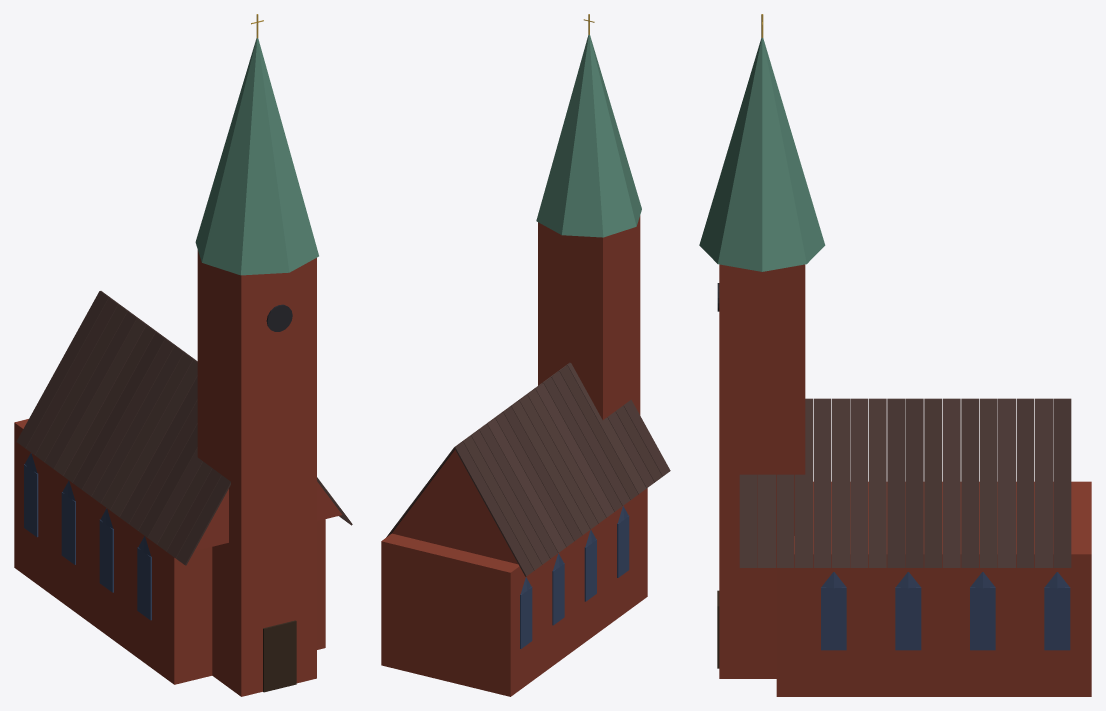
File: church_3.glb
The picture shows the model from 3 angles, left to right: view 1: azimuth 30°, elevation 25°; view 2: azimuth 150°, elevation 25°; view 3: azimuth 270°, elevation 25°; orthographic projection. The views are drawn at different scales.
Visible parts, largest first — view 1: church3_brick, church3_tiles, church3_glass, church3_wood; view 2: church3_brick, church3_tiles, church3_glass; view 3: church3_tiles, church3_brick, church3_glass.
Part boxes in pixels (box(x1,y1,x2,y2)): church3_brick: box(14, 250, 342, 696); church3_tiles: box(16, 38, 352, 565); church3_glass: box(24, 304, 292, 620); church3_wood: box(263, 620, 296, 692); church3_brick: box(381, 215, 647, 696); church3_tiles: box(386, 35, 670, 576); church3_glass: box(520, 506, 629, 648); church3_tiles: box(699, 38, 1071, 567); church3_brick: box(719, 264, 1091, 696); church3_glass: box(717, 283, 1070, 650).
Size of the model in its own units: 6.65 by 24.9 by 13.7.
